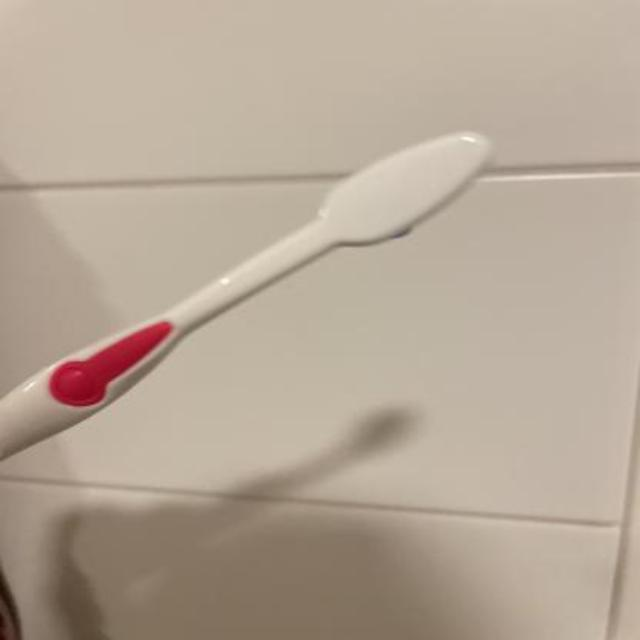toothbrush: (0, 122, 516, 472)
